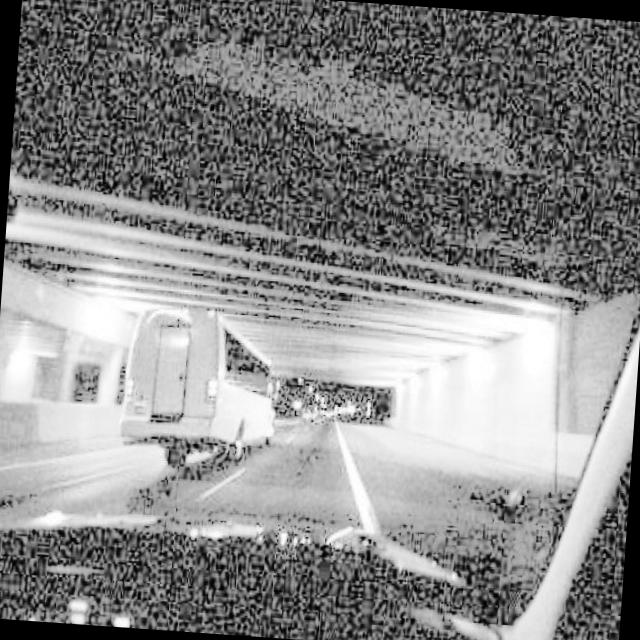Bus: (110, 269, 286, 486)
